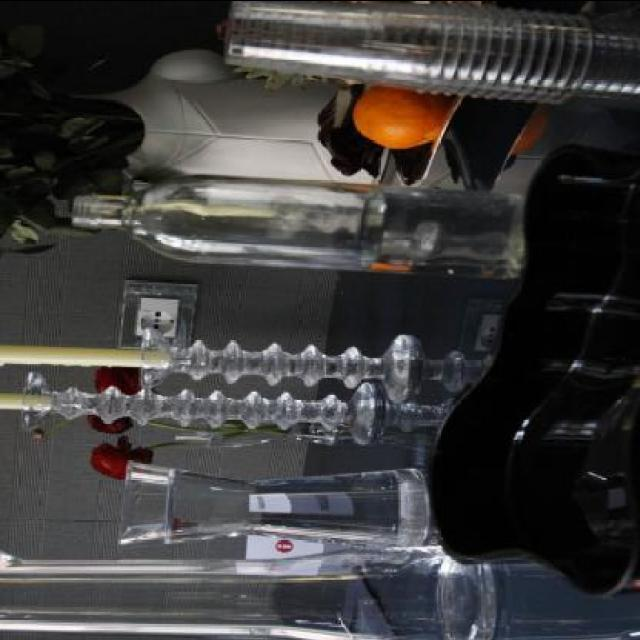Orange: (351, 84, 451, 147)
